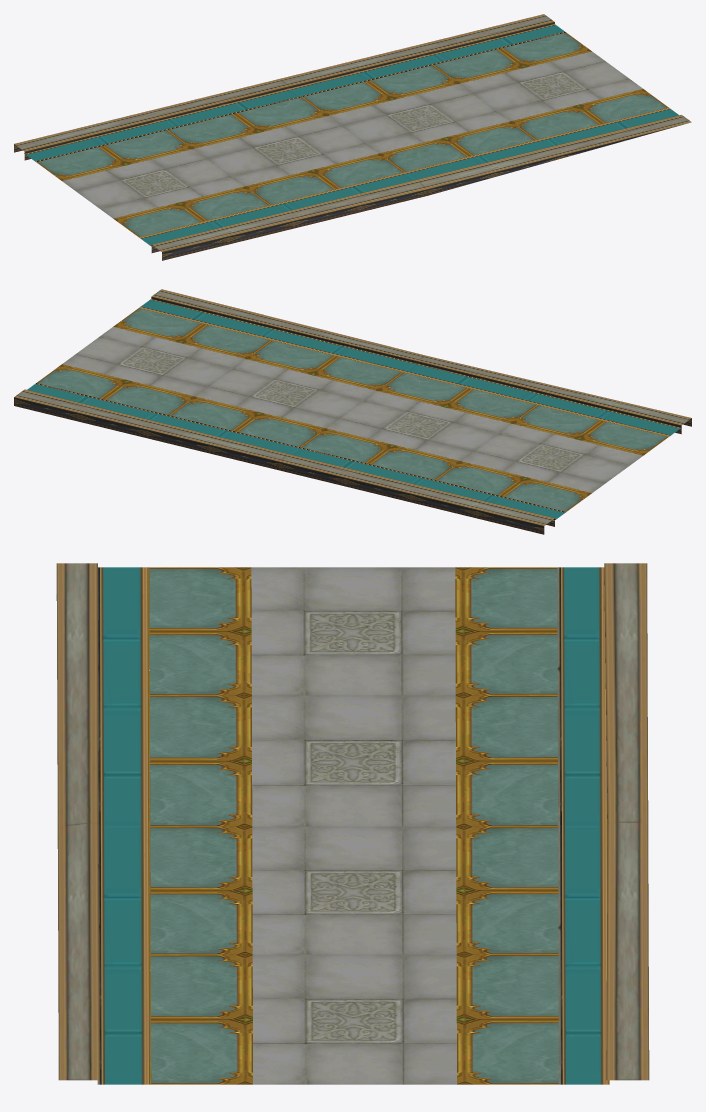
File: Yland1_dm_14 Yland1.FBX
3 views of the same model, one above another, from view 1: azimuth 30°, elevation 25°; view 2: azimuth 150°, elevation 25°; view 3: azimuth 270°, elevation 25° (orthographic). The views are drawn at different scales.
Visible parts, largest first — view 1: Yland1_dm_14 Yland1; view 2: Yland1_dm_14 Yland1; view 3: Yland1_dm_14 Yland1.
Boxes of the visible parts, <box> form: Yland1_dm_14 Yland1: <box>14,14,691,260</box>; Yland1_dm_14 Yland1: <box>14,289,691,534</box>; Yland1_dm_14 Yland1: <box>56,563,649,1084</box>.
Bounding box in the file's own units: 13.95 × 0.2241 × 6.76.
